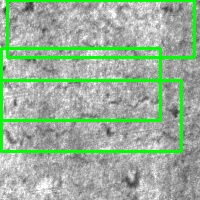crazing: (1, 81, 181, 151), (1, 48, 160, 120), (7, 1, 194, 57)
